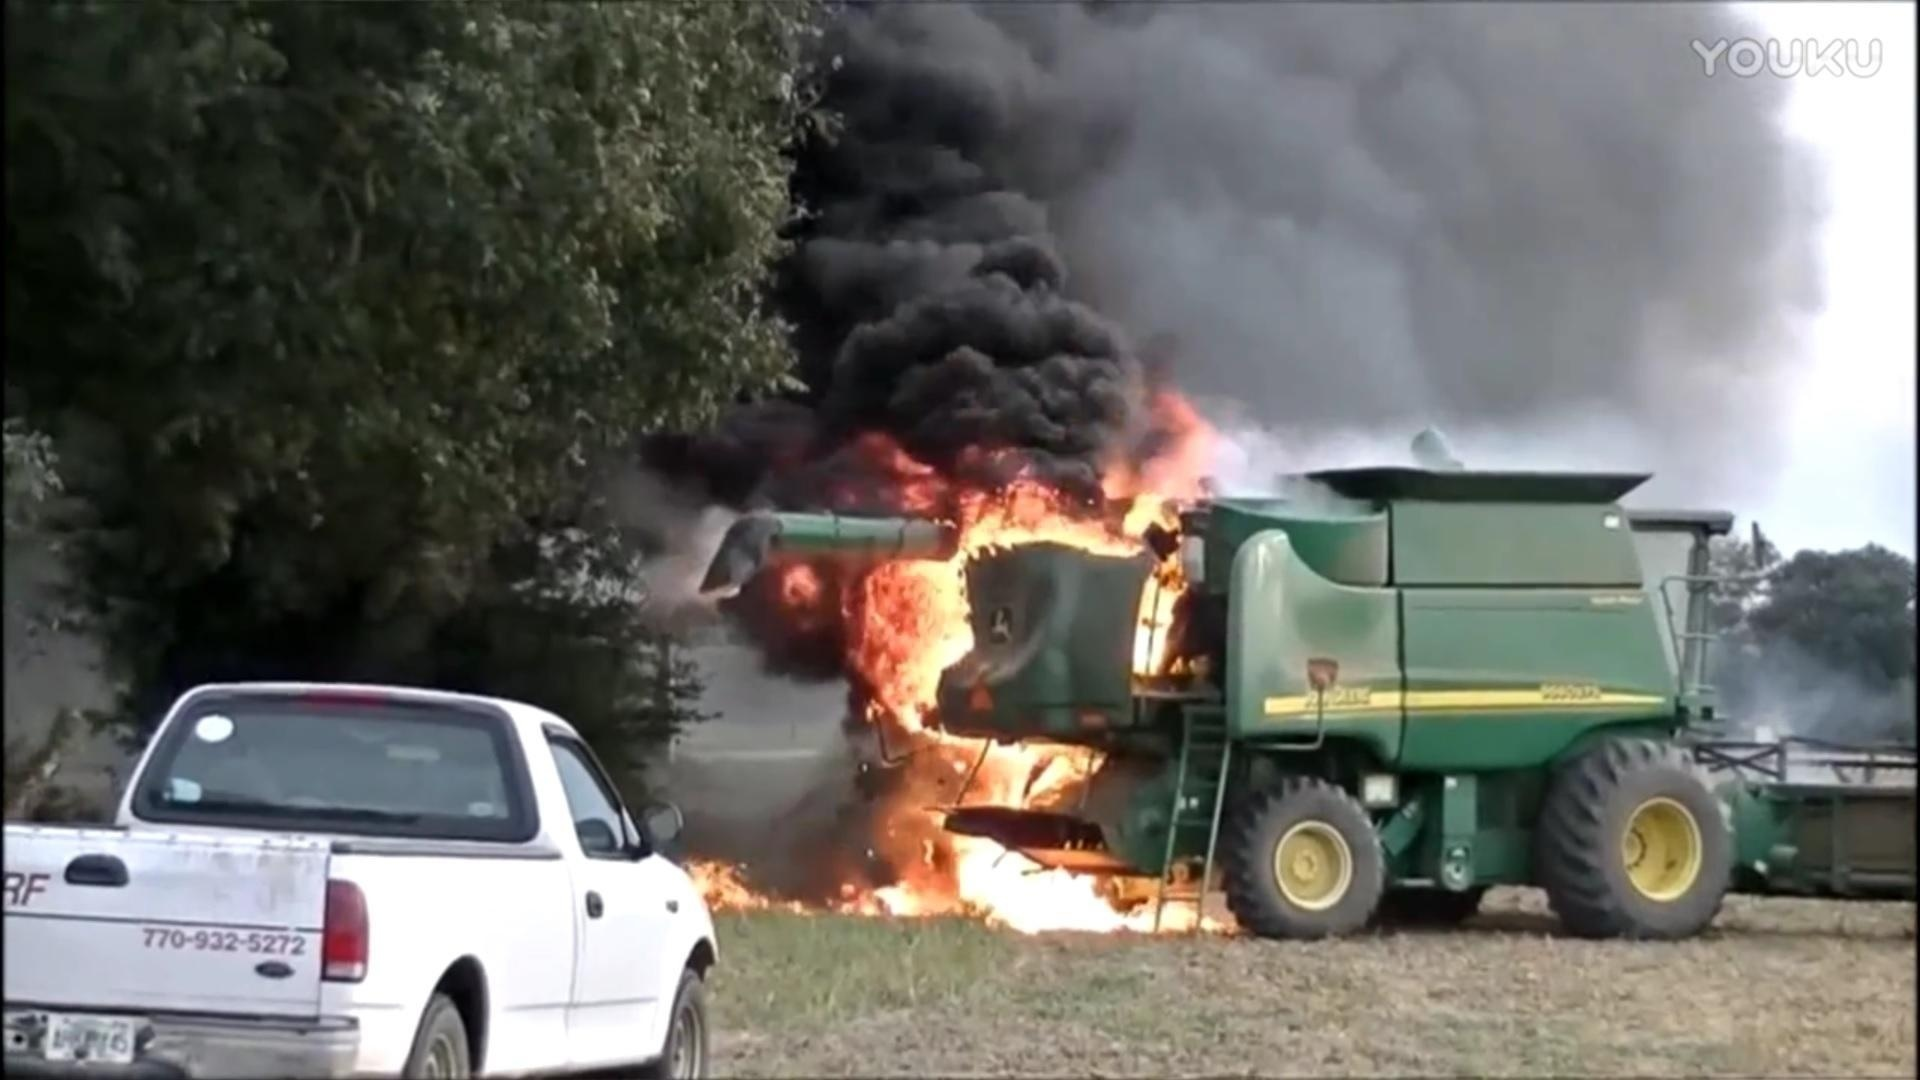fire: (852, 415, 1212, 781)
